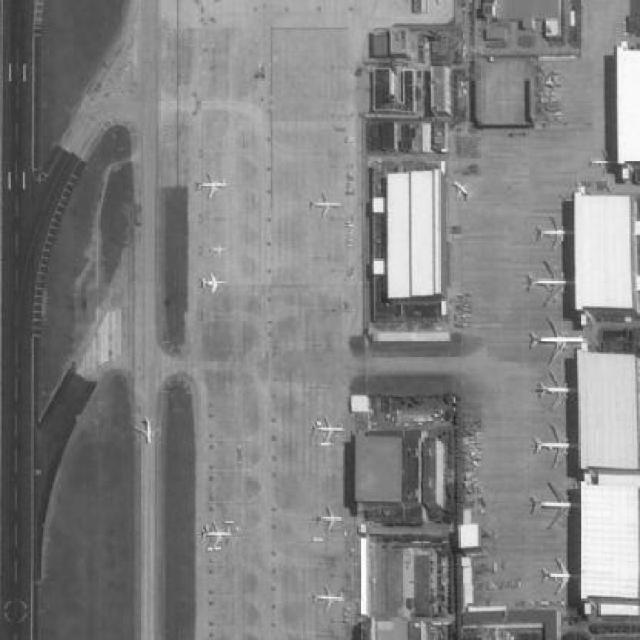airplane: (529, 314, 589, 368), (530, 480, 583, 533), (526, 259, 579, 310), (535, 419, 582, 472), (536, 371, 581, 413), (541, 557, 583, 597), (536, 216, 577, 254), (202, 519, 236, 552), (310, 416, 346, 447), (312, 584, 345, 615), (589, 148, 624, 176), (309, 191, 343, 219), (196, 172, 230, 199), (135, 418, 164, 446), (316, 506, 344, 533), (202, 271, 229, 296), (453, 180, 474, 204), (211, 242, 229, 259)
